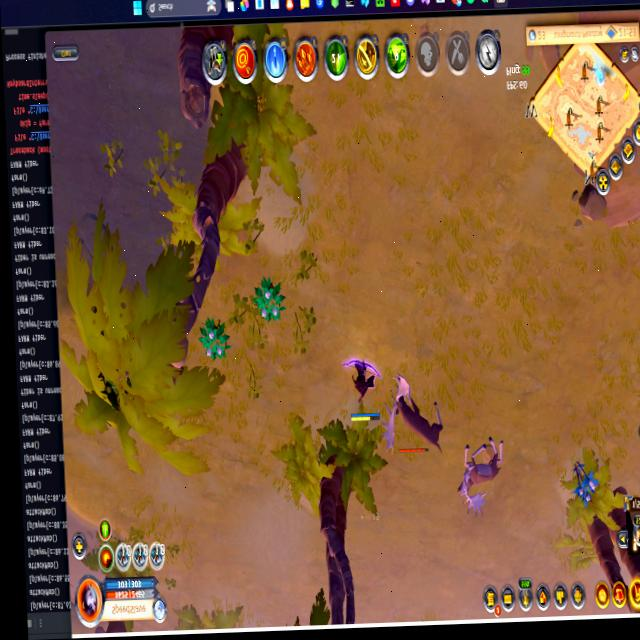hide: (253, 273, 285, 329), (199, 314, 230, 367), (571, 459, 600, 510)
mob: (455, 435, 510, 521)
ore: (382, 371, 447, 462)
red: (345, 354, 382, 425)
